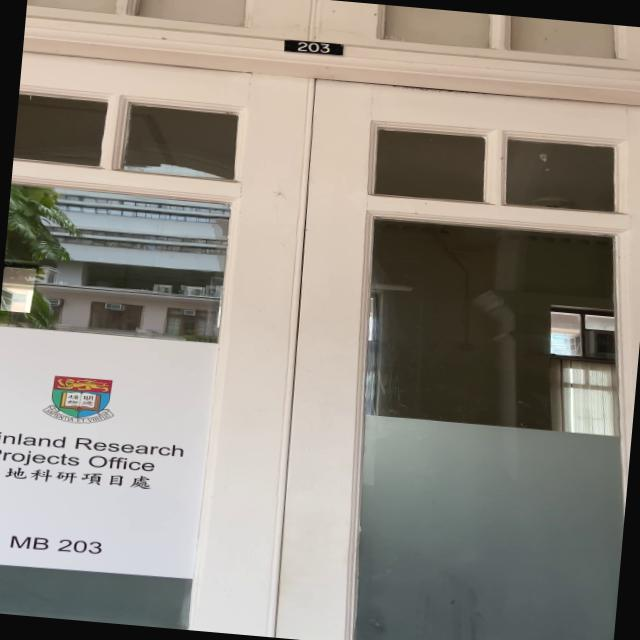room203: (284, 34, 347, 60)
room203Window: (3, 532, 108, 562)
